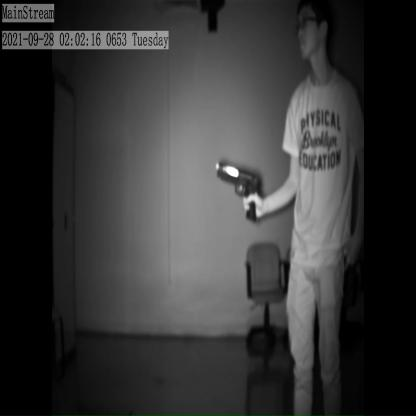weapon: (215, 159, 263, 225)
